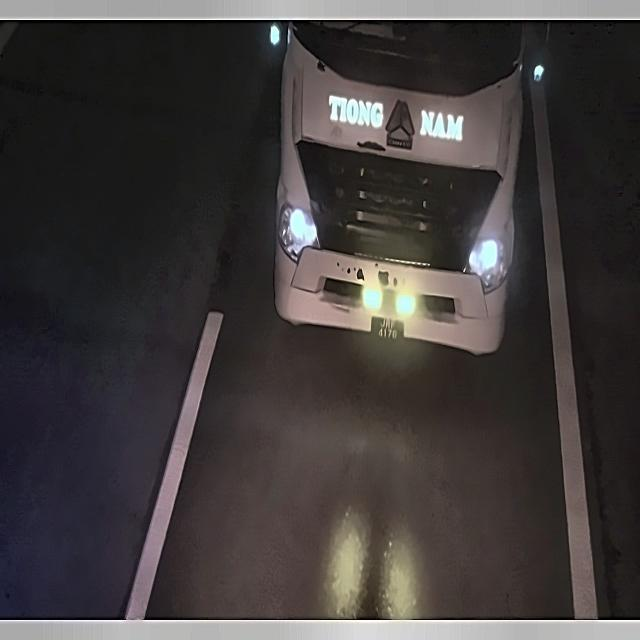car: (370, 316, 405, 344)
